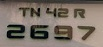character: (6, 23, 25, 39), (53, 24, 72, 40), (29, 24, 49, 39), (77, 25, 95, 40), (17, 6, 30, 16), (30, 6, 41, 17), (73, 7, 84, 18), (57, 7, 68, 17), (45, 7, 56, 16)
